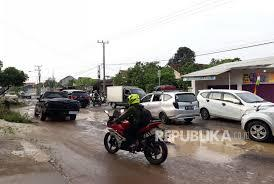Pothole: (162, 128, 274, 166)
